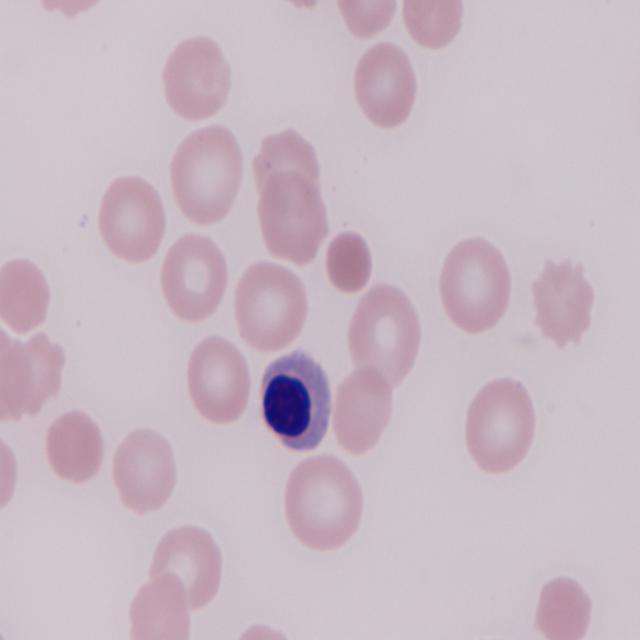RBC: (343, 280, 422, 390), (281, 452, 365, 554), (170, 120, 249, 228), (464, 374, 540, 481), (254, 163, 332, 266), (438, 234, 516, 336), (231, 257, 311, 354), (160, 34, 238, 128), (94, 170, 171, 264), (158, 232, 230, 329), (328, 360, 396, 457), (526, 254, 596, 348), (109, 425, 178, 520), (187, 333, 256, 427), (352, 37, 420, 131), (45, 408, 108, 486), (124, 571, 194, 640), (0, 251, 55, 336), (530, 572, 596, 639), (400, 0, 466, 49), (331, 0, 403, 40)
Spherocyte: (326, 228, 374, 293)
WBC: (254, 357, 326, 454)
